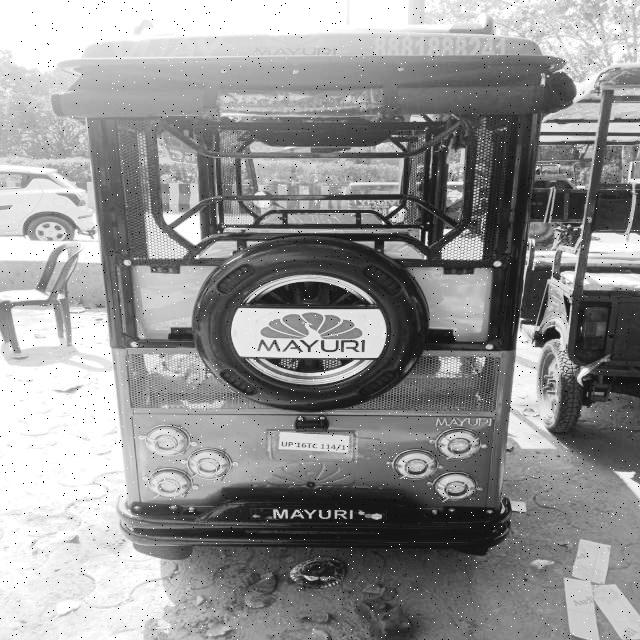Toto: (54, 23, 532, 559)
